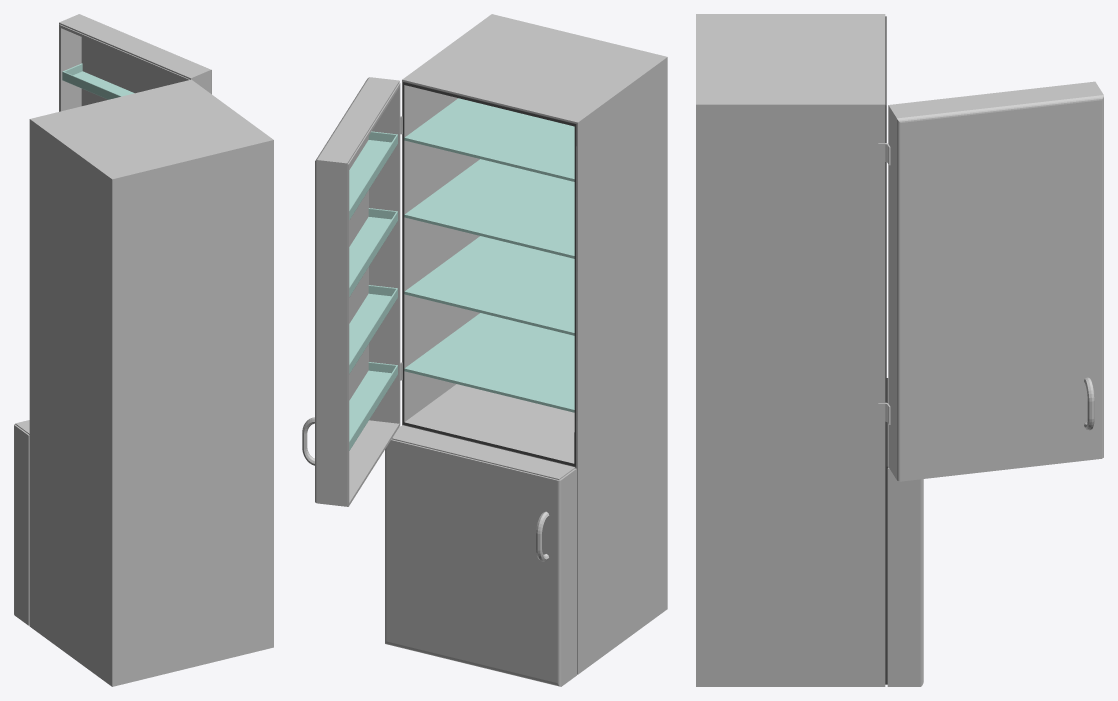
Rendered from frigo inversé.fbx.
3 renders of one model, left to right at view 1: azimuth 30°, elevation 25°; view 2: azimuth 150°, elevation 25°; view 3: azimuth 270°, elevation 25°, orthographic. The views are drawn at different scales.
Parts seen in each view (by area): view 1: Cube.003; view 2: Cube.003; view 3: Cube.003.
Part boxes in pixels (box(x1,y1,x2,y2)): Cube.003: box(14, 14, 273, 686); Cube.003: box(302, 14, 667, 686); Cube.003: box(696, 14, 1103, 686).
Bounding box in the file's own units: 69.83 × 180 × 114.
